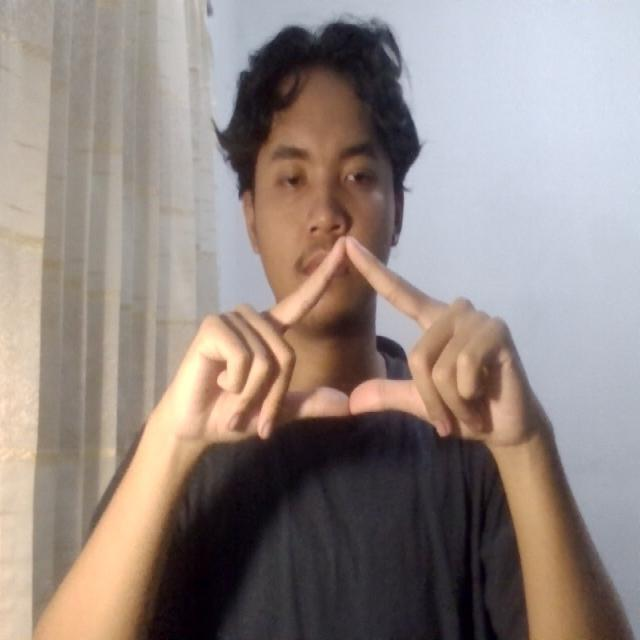A: (162, 221, 554, 468)
